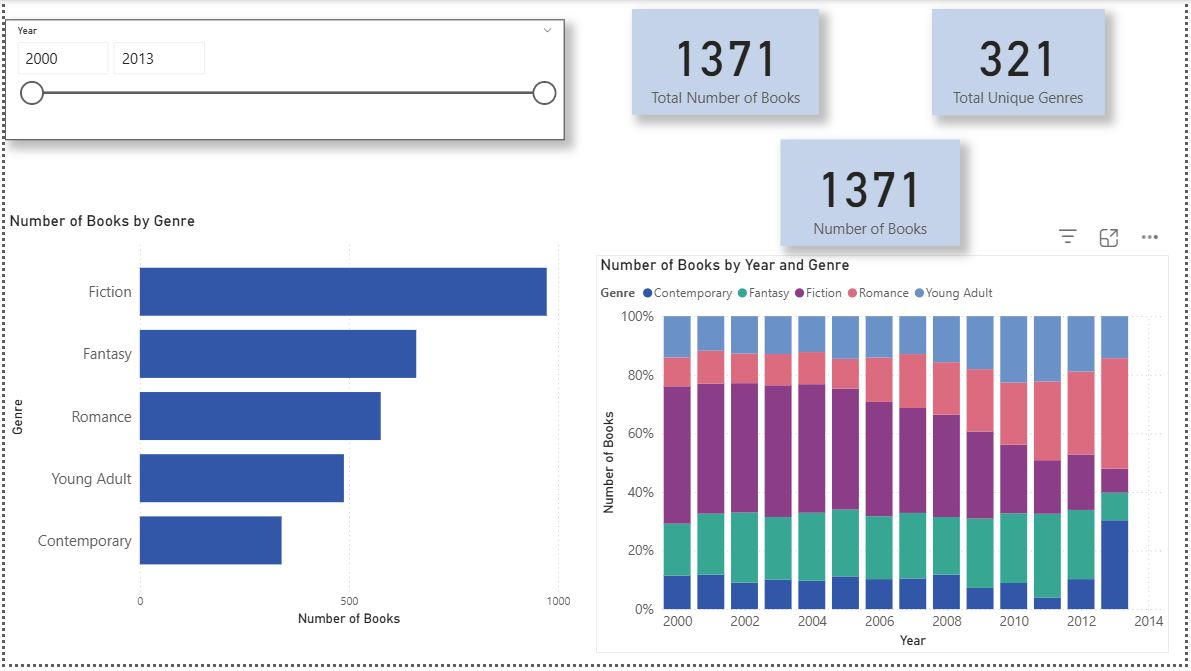

The page's visual inventory and layout, read from the dashboard file:
{"tool":"powerbi","page":{"name":"Genre Prevelance and Trends","canvas":[1280,720],"ordinal":1},"visuals":[{"type":"clusteredBarChart","fields":{"Category":["goodreads_data.Genre"],"Y":["goodreads_data.Count of Books"]},"box":[0,228.7,618,453.5],"z":0},{"type":"hundredPercentStackedColumnChart","fields":{"Category":["goodreads_data.publication_date.Variation.Date Hierarchy.Year"],"Series":["goodreads_data.Genre"],"Y":["goodreads_data.Count of Books"]},"box":[640.6,275.9,621.7,430.9],"z":1000},{"type":"card","fields":{"Values":["goodreads_data.Total Number of Books"]},"box":[679.7,10.1,202.9,114.5],"z":2000},{"type":"card","fields":{"Values":["goodreads_data.Total Unique Genres"]},"box":[1005.4,9.4,187.1,115.3],"z":3000},{"type":"slicer","fields":{"Values":["goodreads_data.publication_date"]},"box":[0,20.8,606.6,130.4],"z":4000},{"type":"card","fields":{"Values":["goodreads_data.Count of Books"]},"box":[841,151.2,194.6,115.3],"z":5000}]}

Visuals, with their boxes in screenshot pixels (x1, y1, x2, y2), scaled from the page's 1280x720 canvas onto the 1191x671 screenshot:
clusteredBarChart - goodreads_data.Genre x goodreads_data.Count of Books: [x1=0, y1=213, x2=575, y2=636]
hundredPercentStackedColumnChart - goodreads_data.publication_date.Variation.Date Hierarchy.Year x goodreads_data.Genre: [x1=596, y1=257, x2=1175, y2=659]
card - goodreads_data.Total Number of Books: [x1=632, y1=9, x2=821, y2=116]
card - goodreads_data.Total Unique Genres: [x1=935, y1=9, x2=1110, y2=116]
slicer - goodreads_data.publication_date: [x1=0, y1=19, x2=564, y2=141]
card - goodreads_data.Count of Books: [x1=783, y1=141, x2=964, y2=248]
